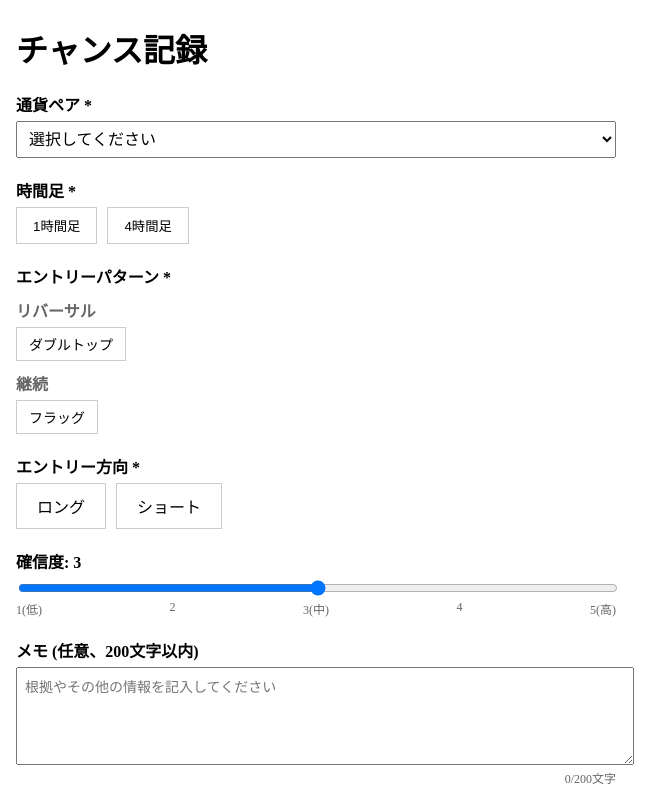
Test: ChanceRecorder › エラーメッセージが表示される
Select "USD/JPY (メジャー)" in the dropdown at (316,140), box [16,121,616,158]
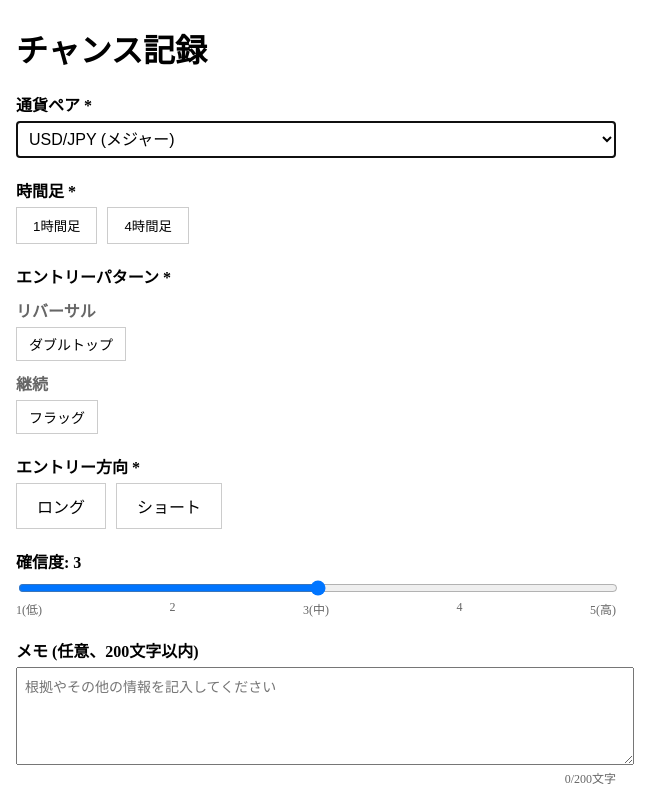
Click the button "1時間足" at (57,226), box [16,207,97,244]
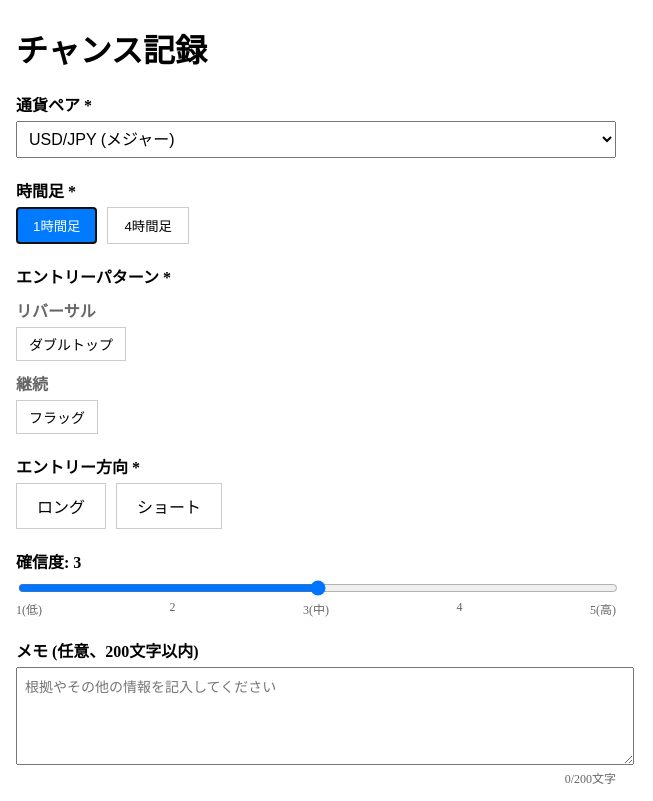
Click the button "ダブルトップ" at (71,344), box [16,327,126,361]
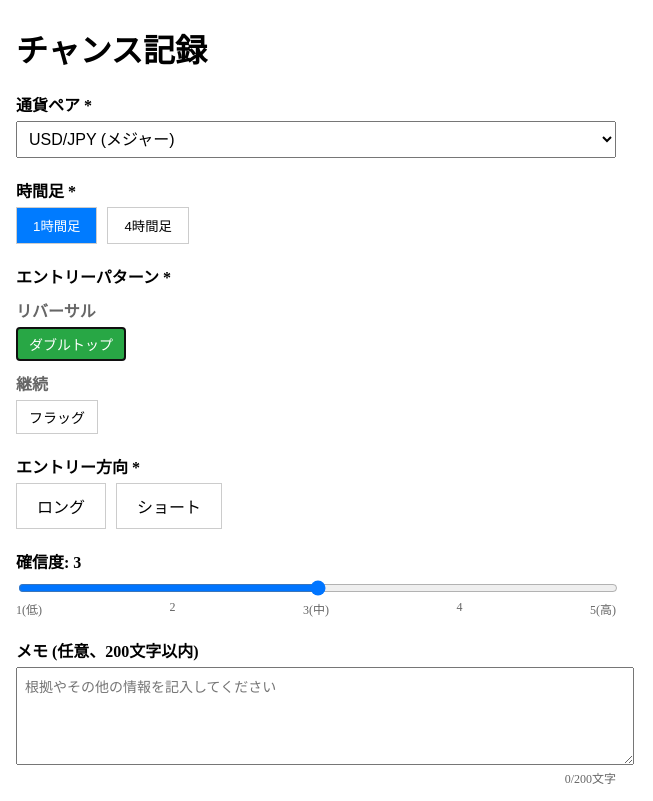
Click the button "ロング" at (61,506), box [16,483,106,529]
(page scrolled)
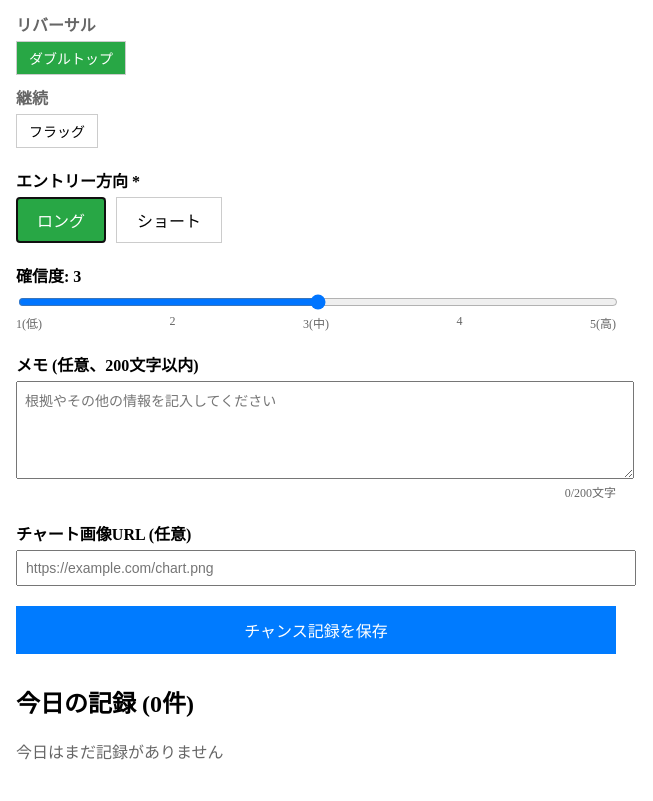
Click the button "チャンス記録を保存" at (316,630), box [16,606,616,654]
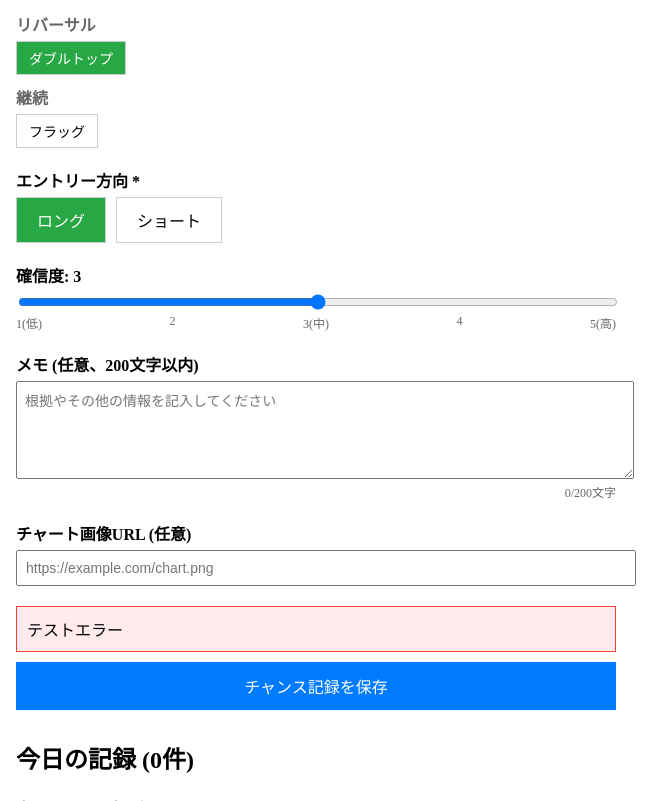
Expected: the text "テストエラー" is shown, [16,606,616,652]
